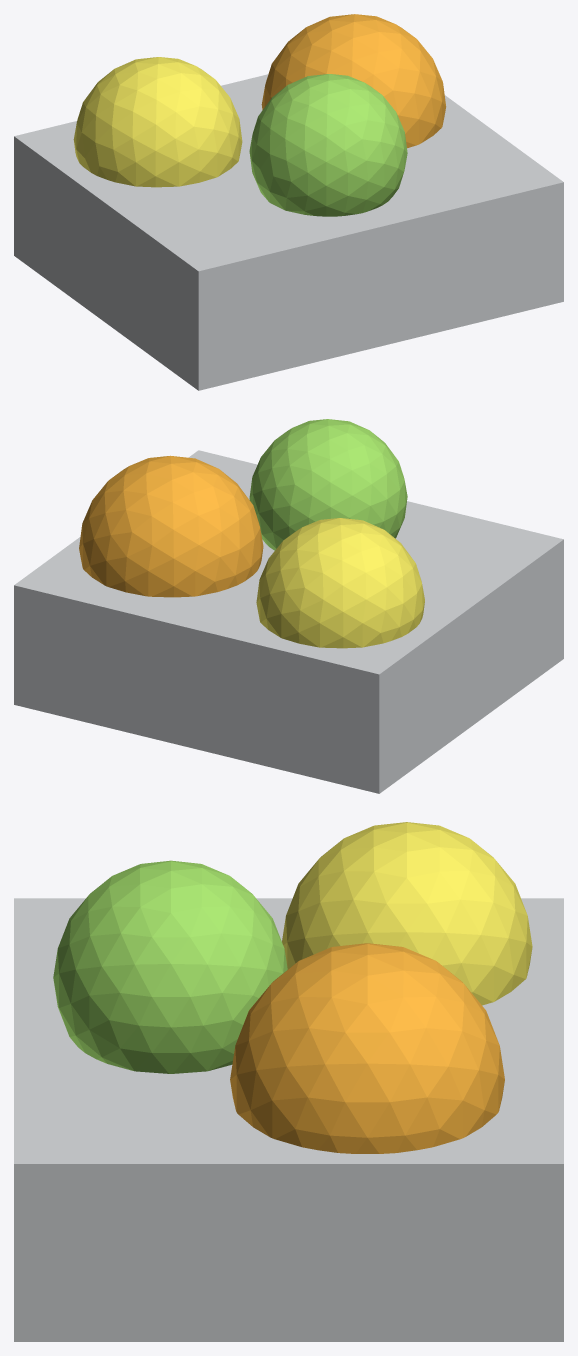
Rendered from citrus-basket.glb.
The picture shows the model from 3 angles, top to bottom: view 1: azimuth 30°, elevation 25°; view 2: azimuth 150°, elevation 25°; view 3: azimuth 270°, elevation 25°; orthographic projection. The views are drawn at different scales.
Visible parts, largest first — view 1: basket_tray, citrus_lime, citrus_lemon, citrus_orange; view 2: basket_tray, citrus_orange, citrus_lemon, citrus_lime; view 3: basket_tray, citrus_orange, citrus_lime, citrus_lemon.
Boxes of the visible parts, x1=… form: basket_tray: x1=14, y1=74, x2=563, y2=390; citrus_lime: x1=249, y1=74, x2=407, y2=216; citrus_lemon: x1=73, y1=57, x2=242, y2=187; citrus_orange: x1=261, y1=14, x2=446, y2=148; basket_tray: x1=14, y1=450, x2=563, y2=793; citrus_orange: x1=79, y1=455, x2=263, y2=597; citrus_lemon: x1=256, y1=518, x2=424, y2=648; citrus_lime: x1=249, y1=419, x2=407, y2=550; basket_tray: x1=14, y1=898, x2=563, y2=1341; citrus_orange: x1=230, y1=943, x2=504, y2=1153; citrus_lime: x1=53, y1=860, x2=287, y2=1073; citrus_lemon: x1=282, y1=822, x2=532, y2=1005.
Bounding box in the file's own units: 0.16 × 0.095 × 0.14.
